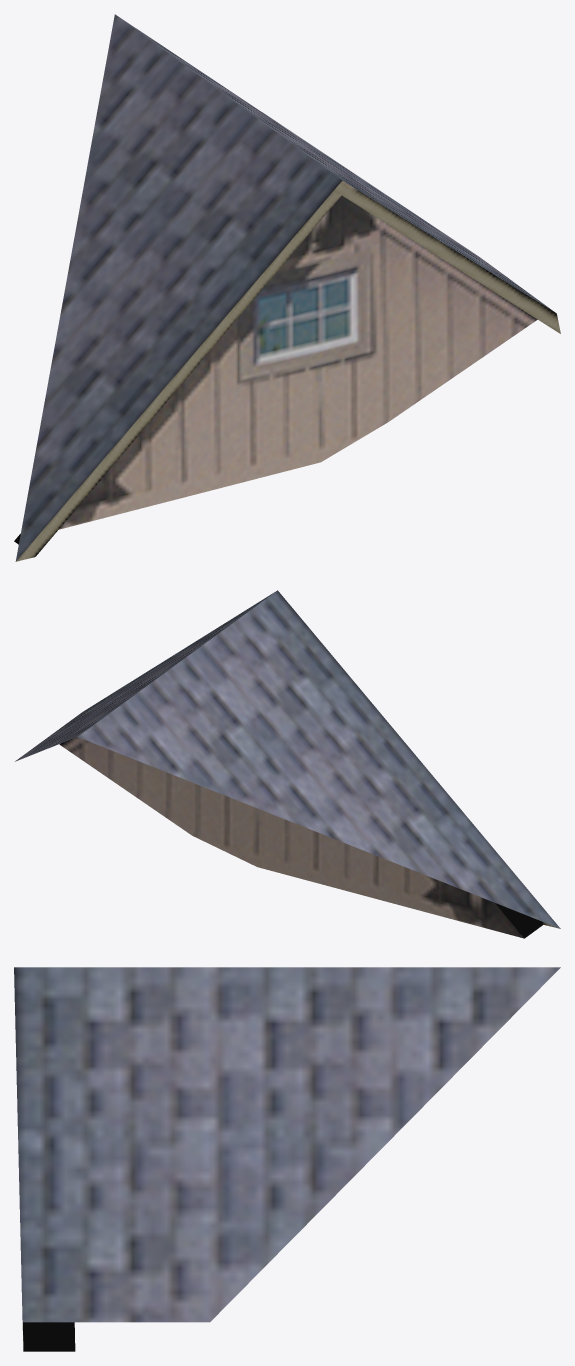
The model's file is houseRoof03.obj.
The picture shows the model from 3 angles, top to bottom: view 1: azimuth 30°, elevation 25°; view 2: azimuth 150°, elevation 25°; view 3: azimuth 270°, elevation 25°; orthographic projection. The views are drawn at different scales.
Visible parts, largest first — view 1: houseRoof03; view 2: houseRoof03; view 3: houseRoof03.
Part boxes in pixels (x1,y1,x2,y2): houseRoof03: [14, 14, 560, 561]; houseRoof03: [15, 590, 560, 938]; houseRoof03: [14, 967, 560, 1351].
Size of the model in its own units: 6.07 by 3.23 by 4.38.
Materials: 1 (1 with a texture image).
